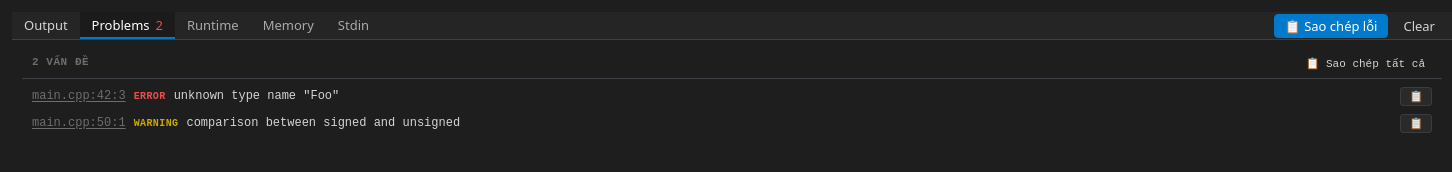
it: Problems Tab Copy Button UI › renders copy button in console header tools and copies all problems when clicked
This screenshot has width=1452, height=172.
Click the button with aria-label "sao chép danh sách lỗi" at (1331, 26), box top-left (1274, 14), bottom-right (1388, 38)
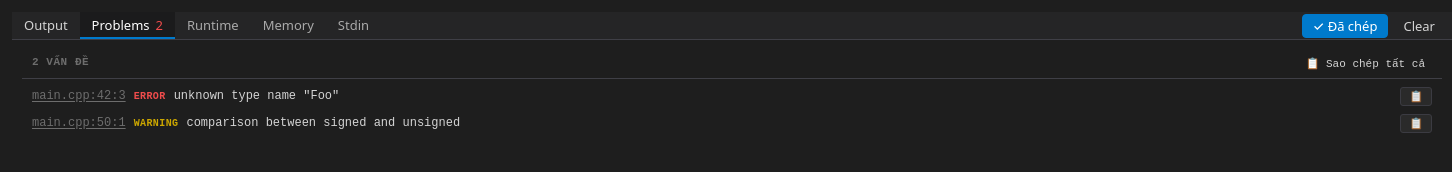
Now the button "✓ Đã chép" is shown, box top-left (1302, 14), bottom-right (1388, 38)
